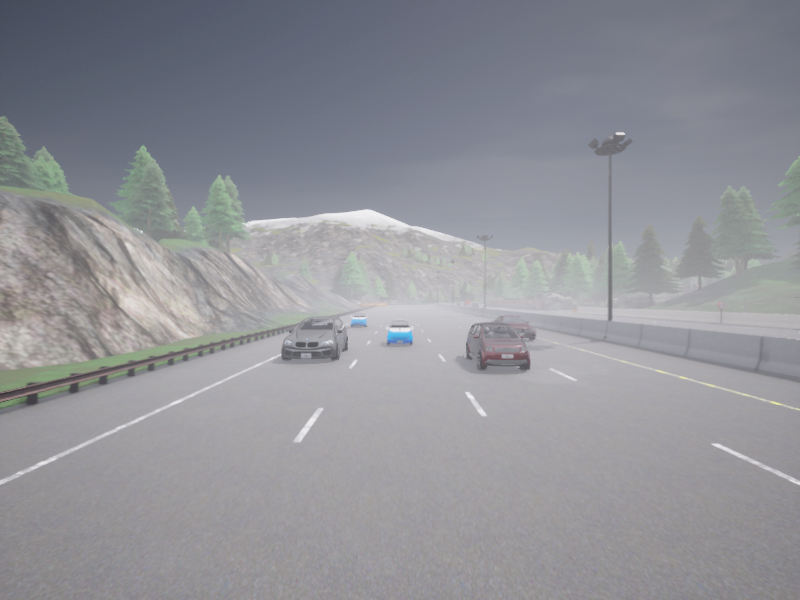vehicle: (465, 322, 529, 370), (281, 316, 348, 360), (492, 315, 536, 340), (386, 319, 413, 345), (350, 312, 367, 327), (465, 300, 470, 305), (471, 303, 478, 306), (457, 302, 461, 305), (480, 301, 485, 303)
